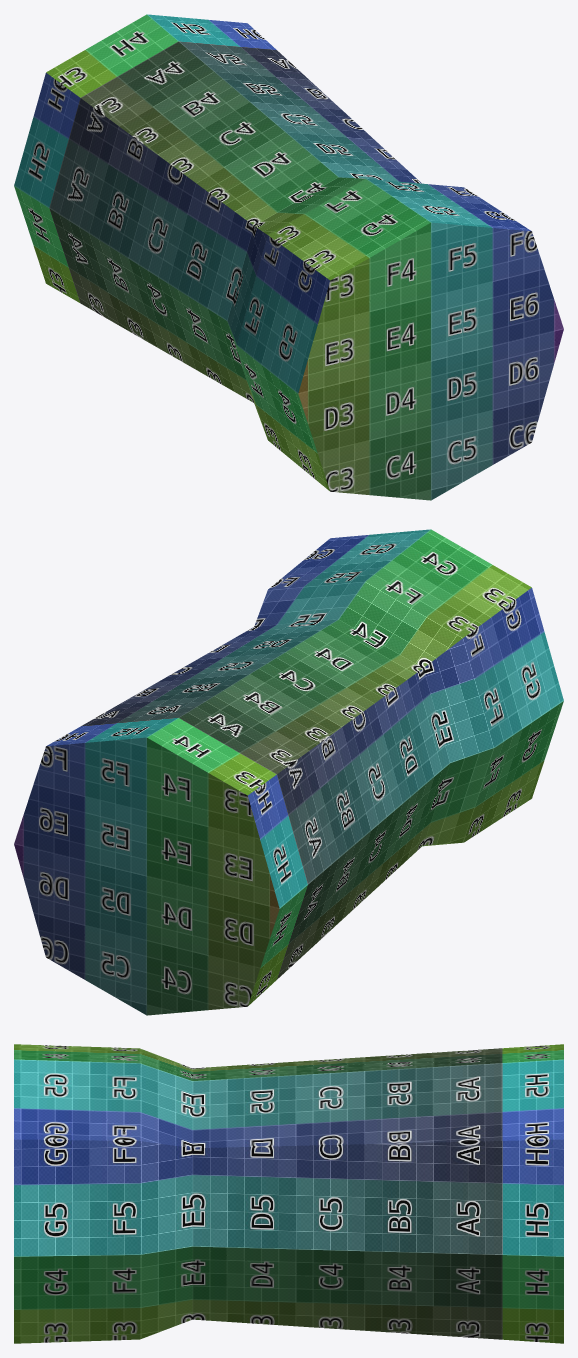
Rendered from player.gltf.
The picture shows the model from 3 angles, top to bottom: view 1: azimuth 30°, elevation 25°; view 2: azimuth 150°, elevation 25°; view 3: azimuth 270°, elevation 25°; orthographic projection. The views are drawn at different scales.
Visible parts, largest first — view 1: Plane; view 2: Plane; view 3: Plane.
Boxes of the visible parts, x1,y1,x2,y2 form: Plane: (14,14,563,500); Plane: (14,529,563,1015); Plane: (14,1044,563,1343).
Size of the model in its own units: 0.5396 by 0.5396 by 1.
Materials: 1 (1 with a texture image).
